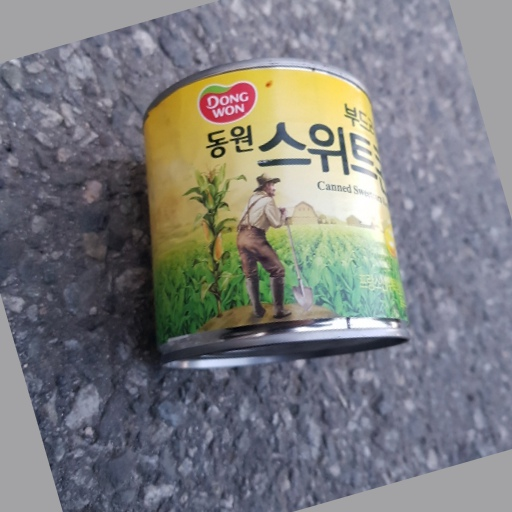Metal_1: (140, 59, 411, 370)
